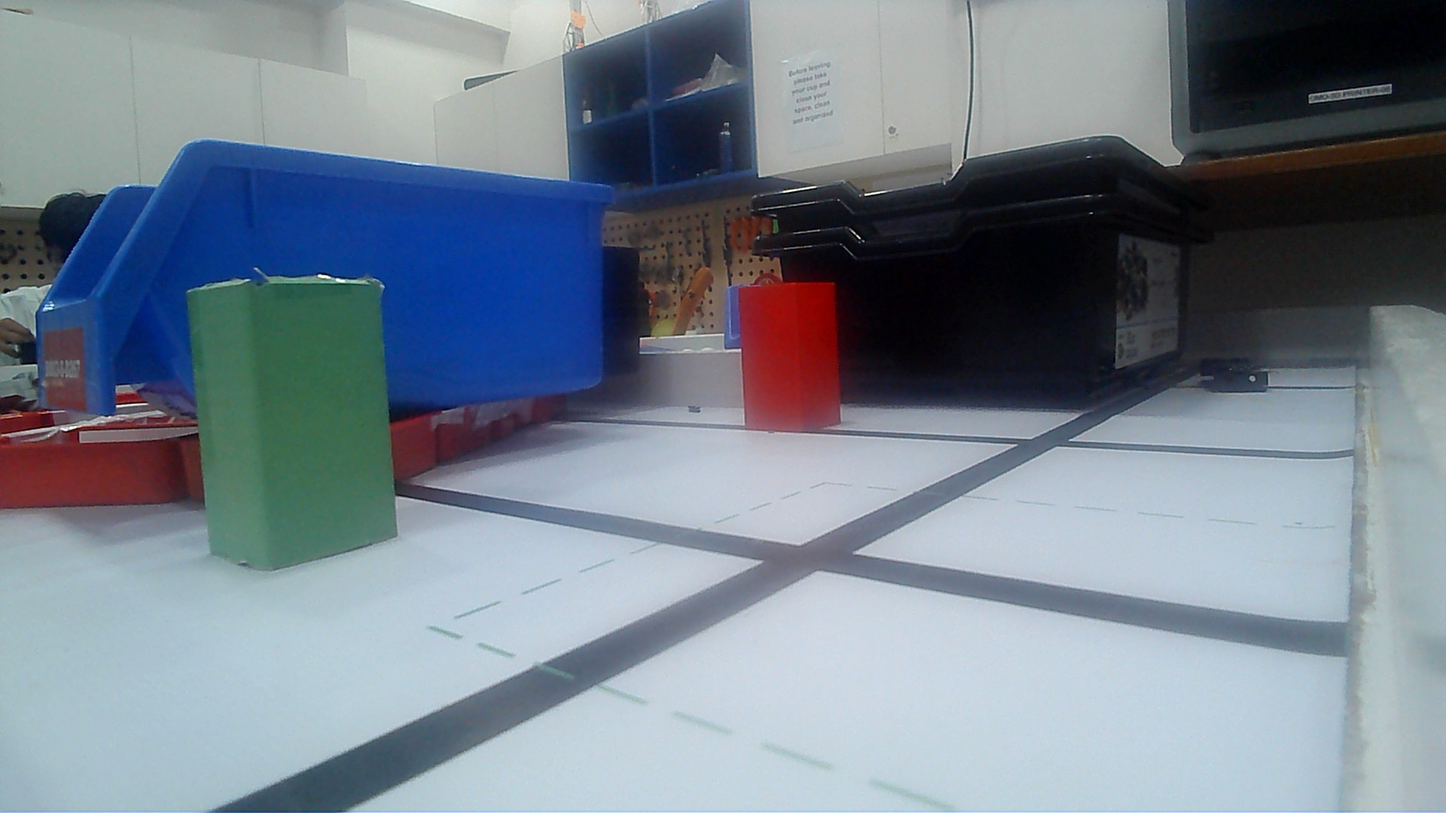red: (737, 282, 840, 429)
